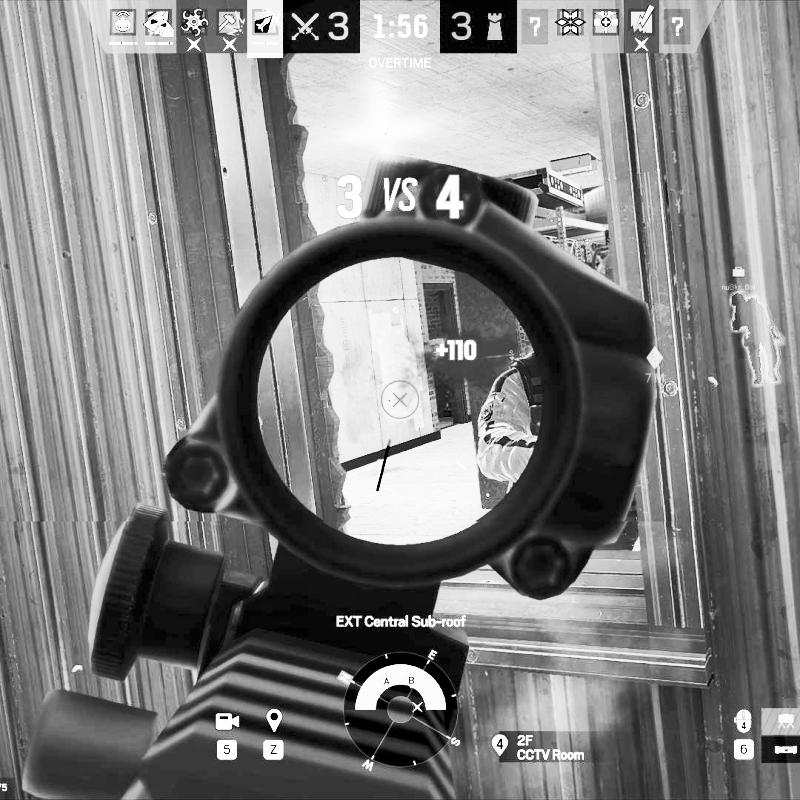Character: (477, 343, 550, 484)
Friend_label: (722, 264, 757, 292)
